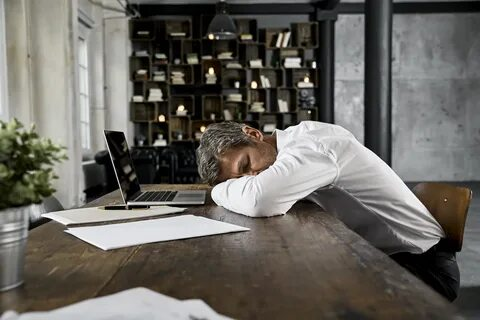sleep: (194, 118, 409, 220)
